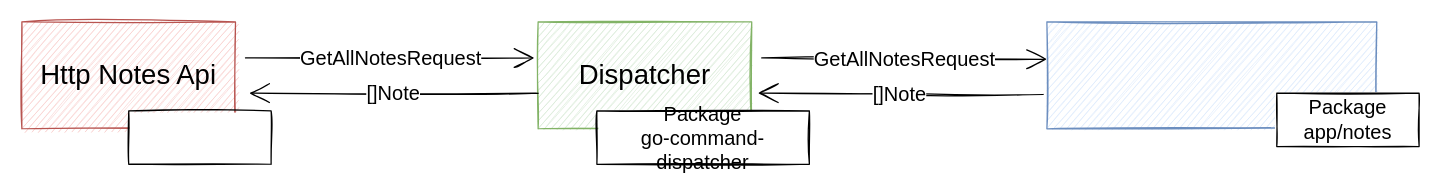
This 1441x194 diagram has some shape labels left out. Each missing label, with the box of its shape:
GetAllNotesRequestHandler: (1046, 21, 1377, 129)
Package infra/http/notes: (128, 110, 271, 164)
